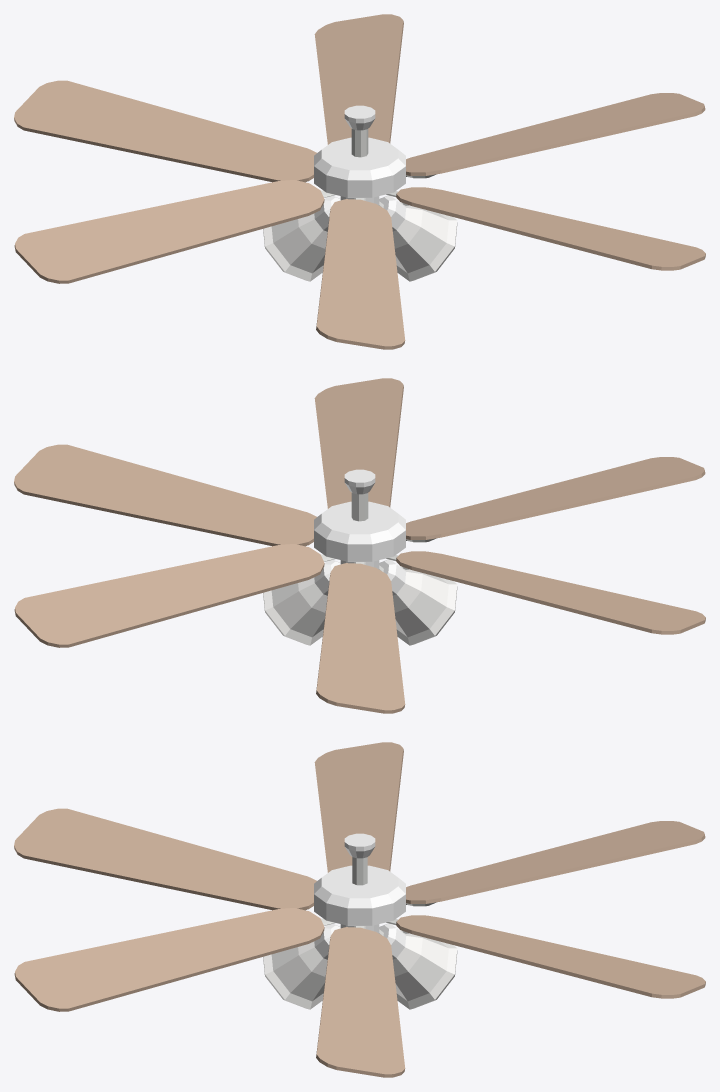
The model's file is Prop_Misc_Ceiling_Fan_6.glb.
The picture shows the model from 3 angles, top to bottom: view 1: azimuth 30°, elevation 25°; view 2: azimuth 150°, elevation 25°; view 3: azimuth 270°, elevation 25°; orthographic projection.
Visible parts, largest first — view 1: Prop_Misc_Ceiling_Fan_6; view 2: Prop_Misc_Ceiling_Fan_6; view 3: Prop_Misc_Ceiling_Fan_6.
Part boxes in pixels (bbox=[...]): Prop_Misc_Ceiling_Fan_6: bbox=[14, 14, 705, 349]; Prop_Misc_Ceiling_Fan_6: bbox=[14, 378, 705, 713]; Prop_Misc_Ceiling_Fan_6: bbox=[14, 742, 705, 1077].
Size of the model in its own units: 2.5 by 0.6266 by 2.25.
